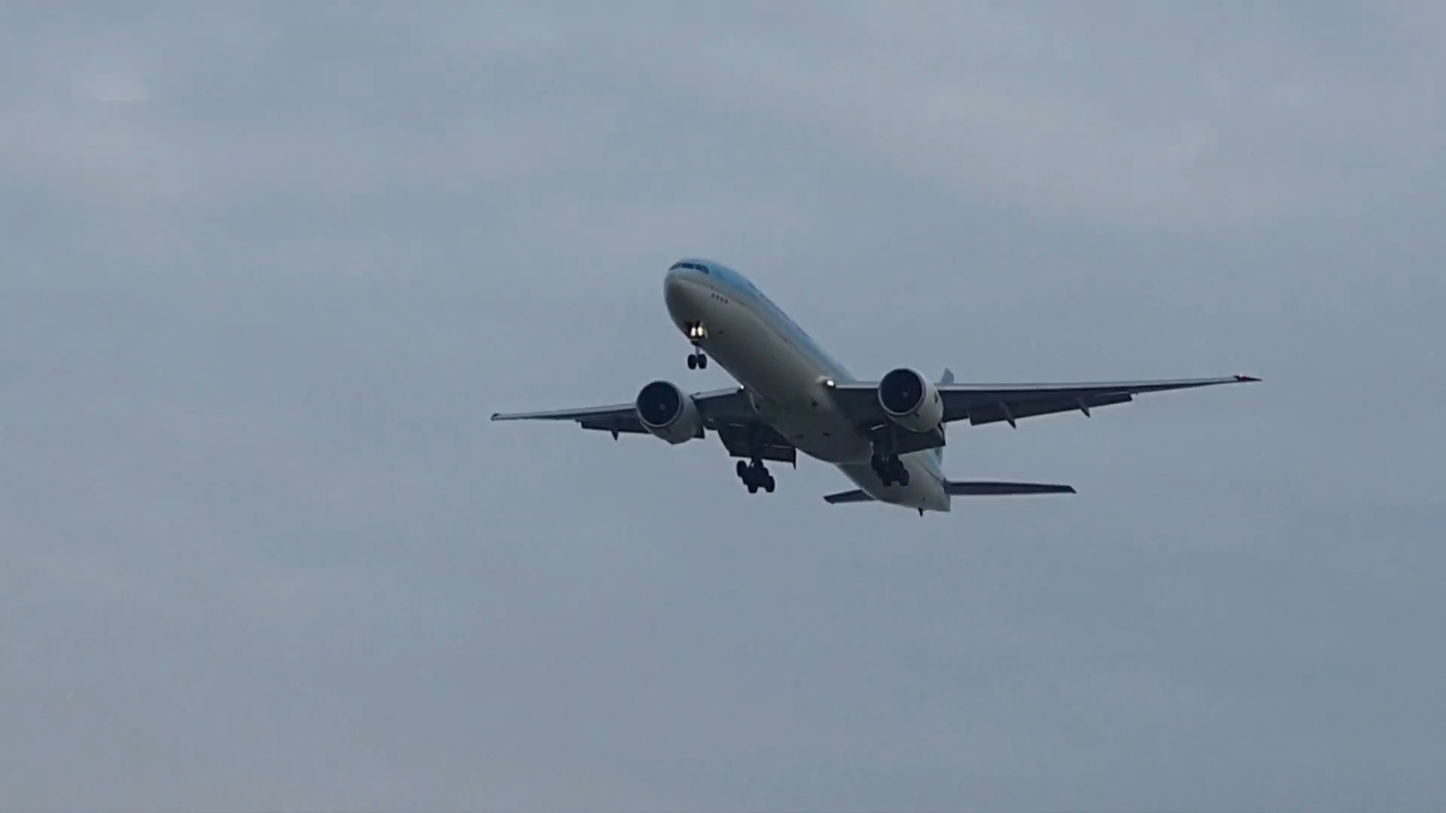airplane: (486, 251, 1263, 518)
